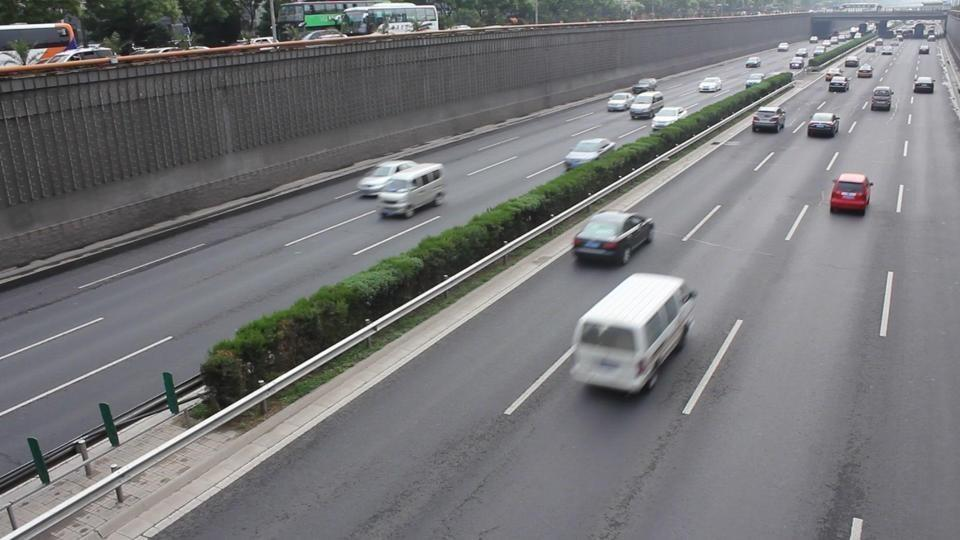car: (571, 210, 655, 266), (371, 160, 447, 219), (356, 160, 427, 200), (25, 45, 118, 69), (829, 172, 873, 215), (563, 137, 615, 172), (629, 91, 665, 120), (751, 105, 786, 134), (807, 111, 840, 138), (869, 86, 895, 112), (606, 91, 633, 112), (0, 51, 23, 70), (698, 76, 723, 93), (827, 74, 849, 93), (913, 75, 934, 94)
